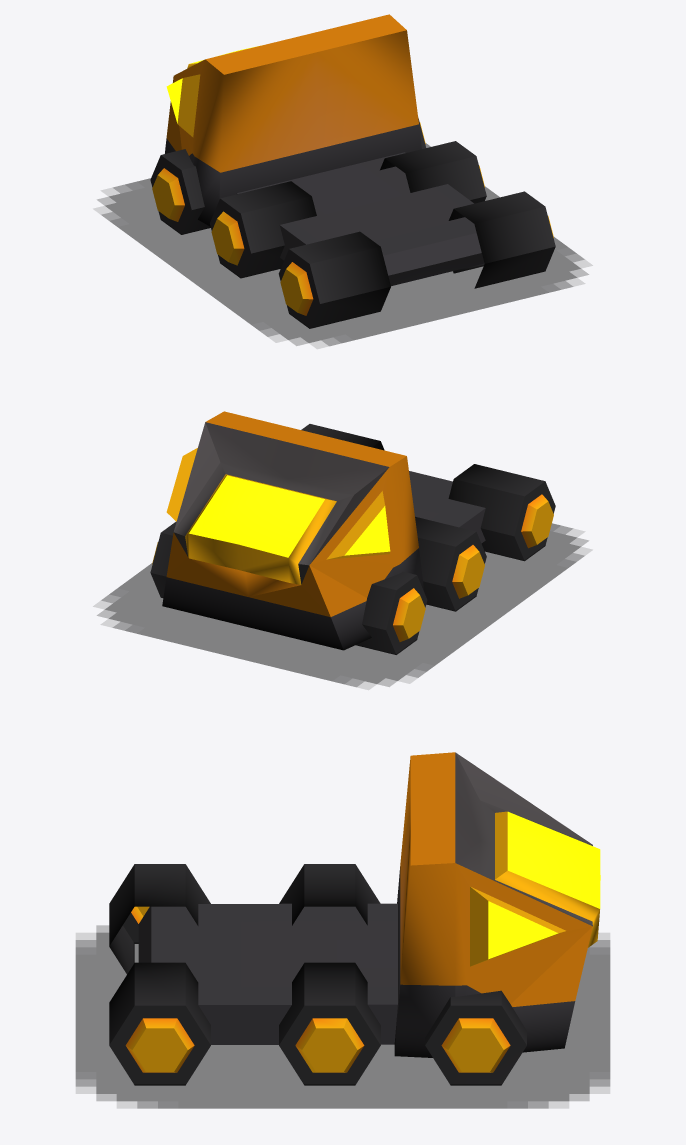
Rendered from lorry-1.glb.
3 renders of one model, top to bottom at view 1: azimuth 30°, elevation 25°; view 2: azimuth 150°, elevation 25°; view 3: azimuth 270°, elevation 25°, orthographic. The views are drawn at different scales.
Parts seen in each view (by area): view 1: Cylinder, Plane.002; view 2: Cylinder, Plane.002; view 3: Cylinder, Plane.002.
Boxes of the visible parts, <box> form: Cylinder: <box>150,14,555,328</box>; Plane.002: <box>97,143,592,345</box>; Cylinder: <box>150,411,555,654</box>; Plane.002: <box>93,523,591,689</box>; Cylinder: <box>109,752,600,1085</box>; Plane.002: <box>75,925,610,1108</box>.
Bounding box in the file's own units: 10.61 × 4.36 × 12.56.
Materials: 3 (1 with a texture image).
